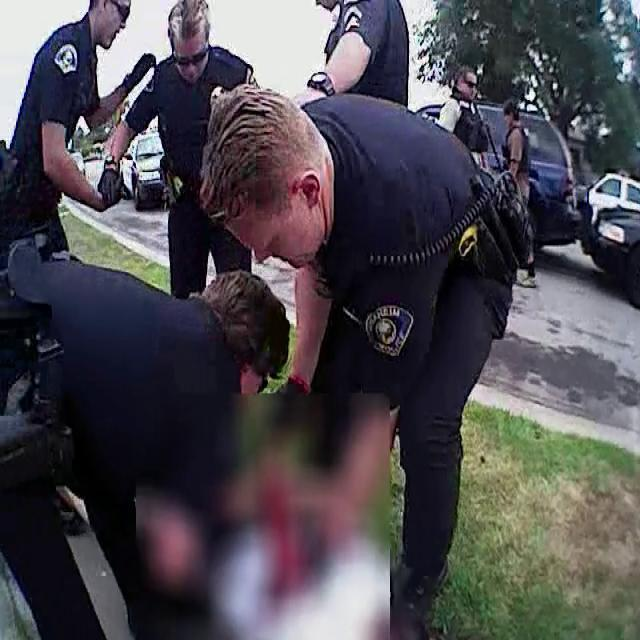gun: (0, 310, 84, 530)
